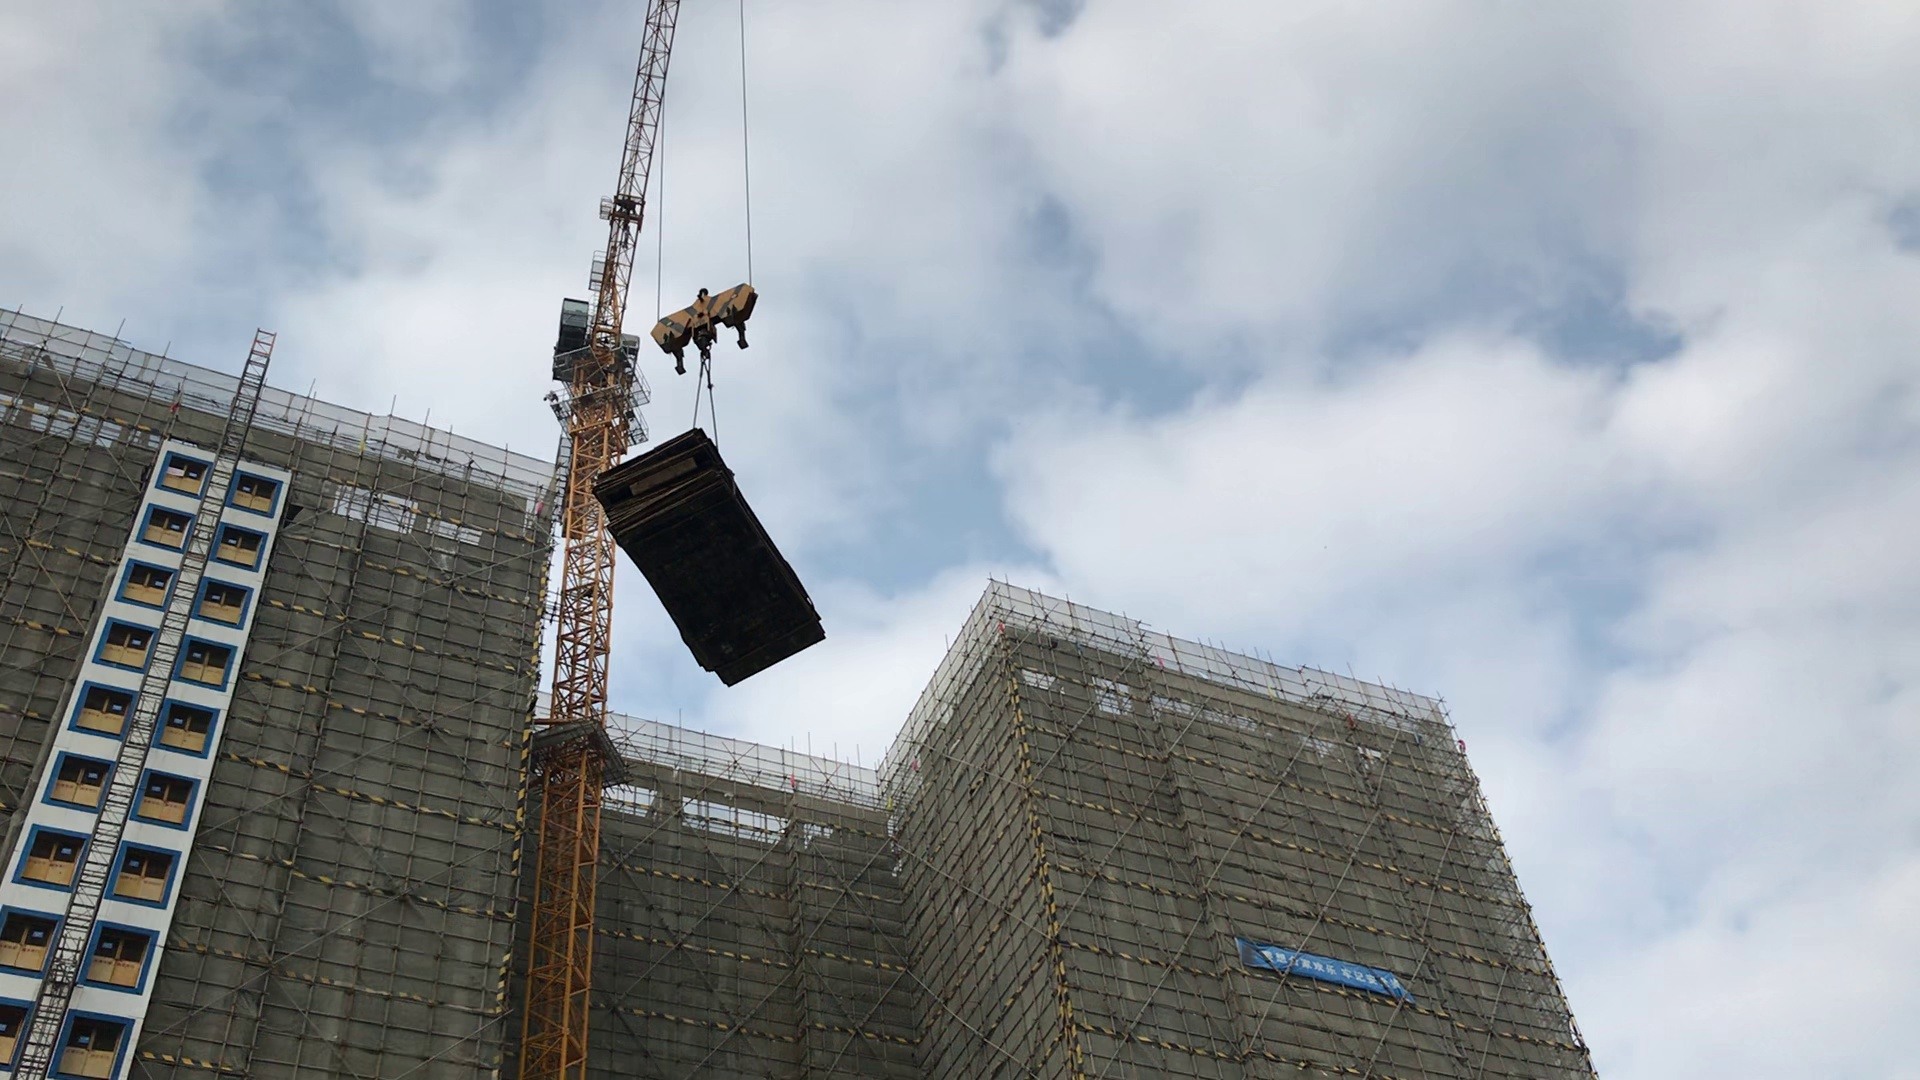board: (587, 419, 831, 695)
hook: (651, 284, 760, 375)
slogan: (1240, 936, 1411, 997)
